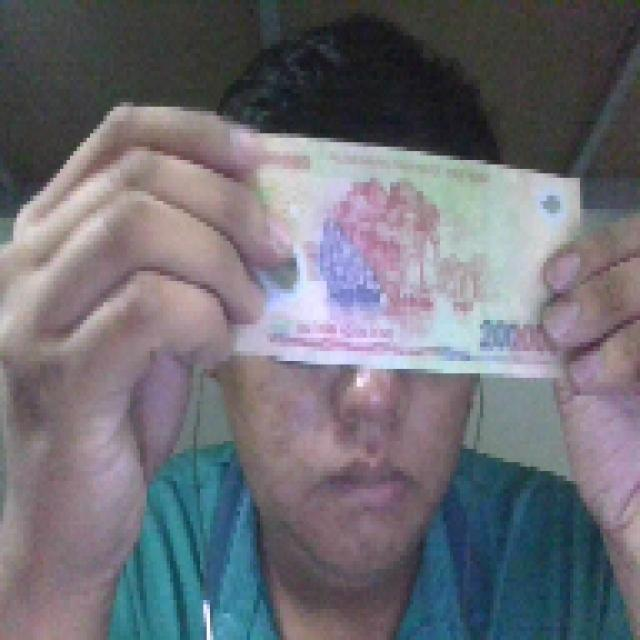200 000 VND: (214, 124, 587, 378)
